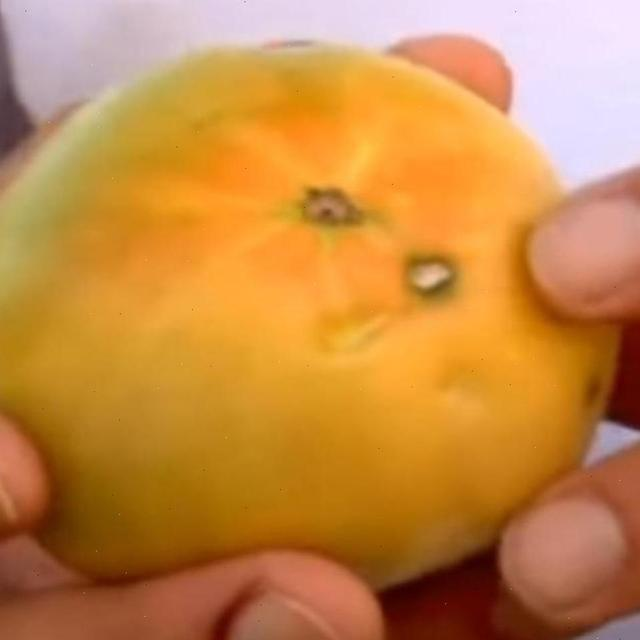Blossom End Rot Fruit: (21, 24, 392, 260)
